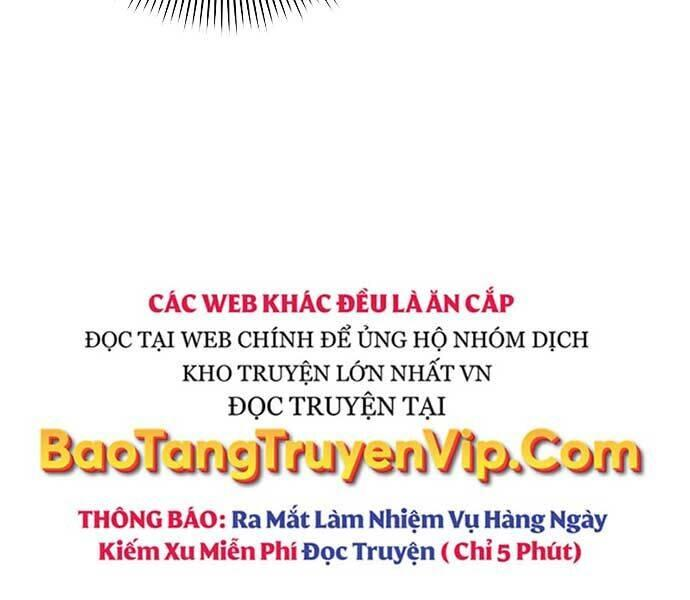quangcao: (42, 288, 646, 568)
